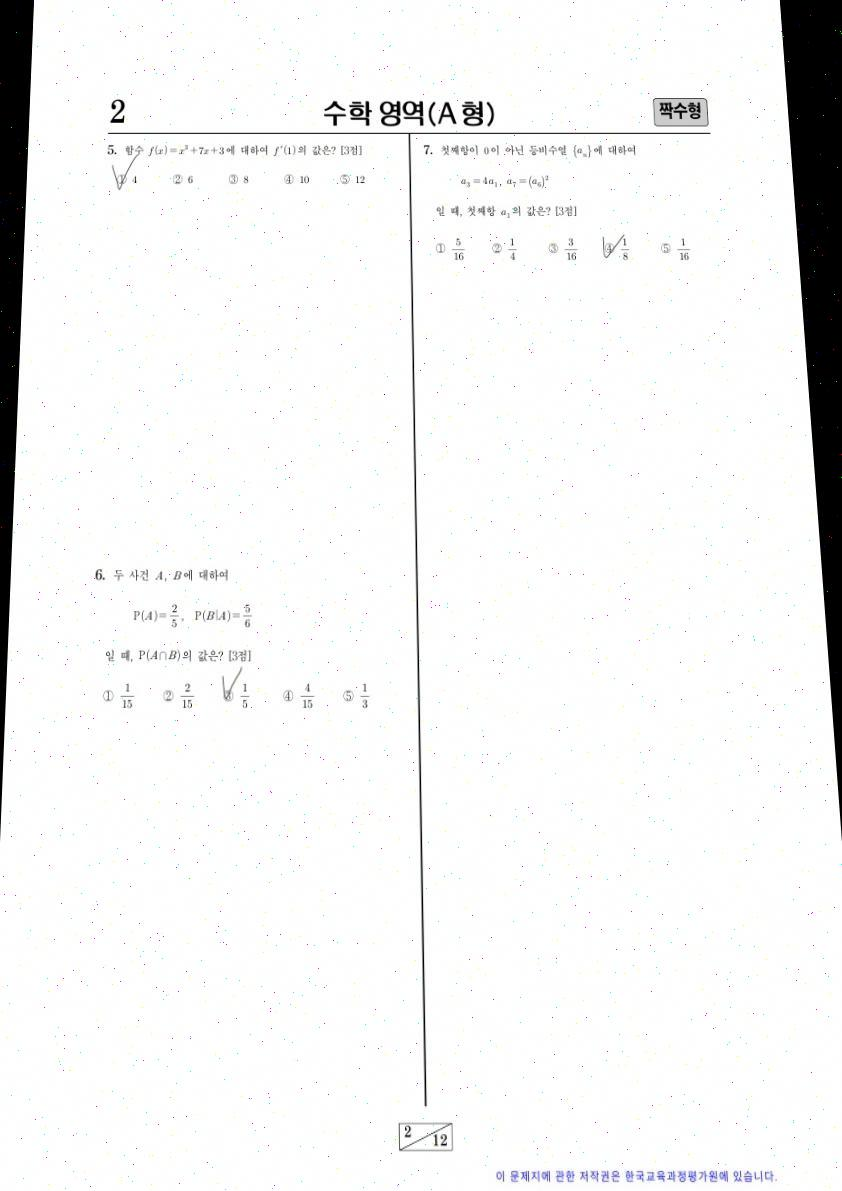question: (74, 557, 383, 725), (412, 136, 709, 285), (92, 137, 377, 206)
